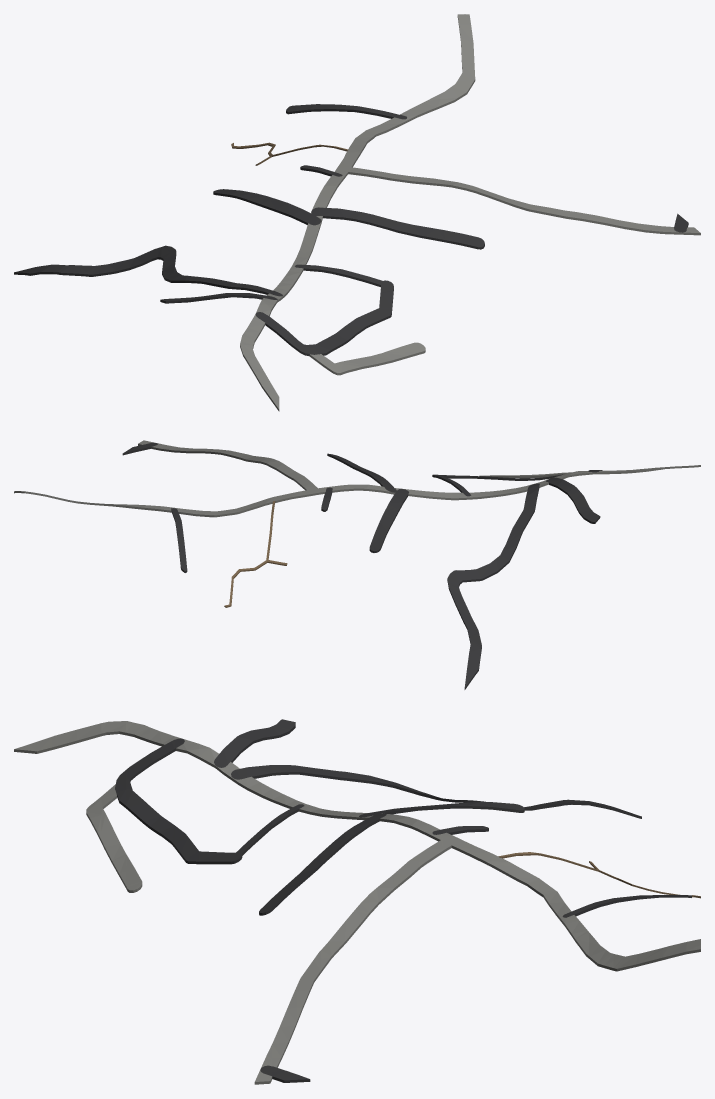
3 renders of one model, top to bottom at view 1: azimuth 30°, elevation 25°; view 2: azimuth 150°, elevation 25°; view 3: azimuth 270°, elevation 25°, orthographic. The views are drawn at different scales.
Size of the model in its own units: 293 by 68.29 by 282.
